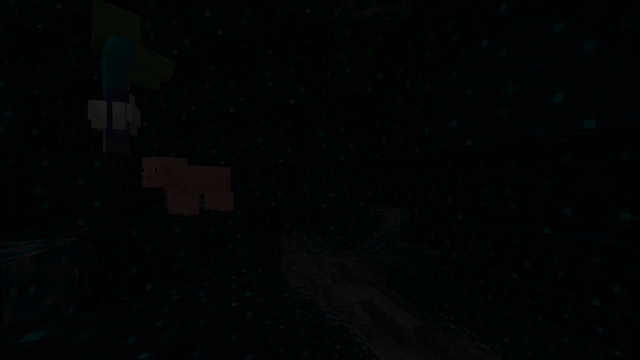cochons: (167, 163, 223, 215)
zombies: (78, 8, 145, 156)
